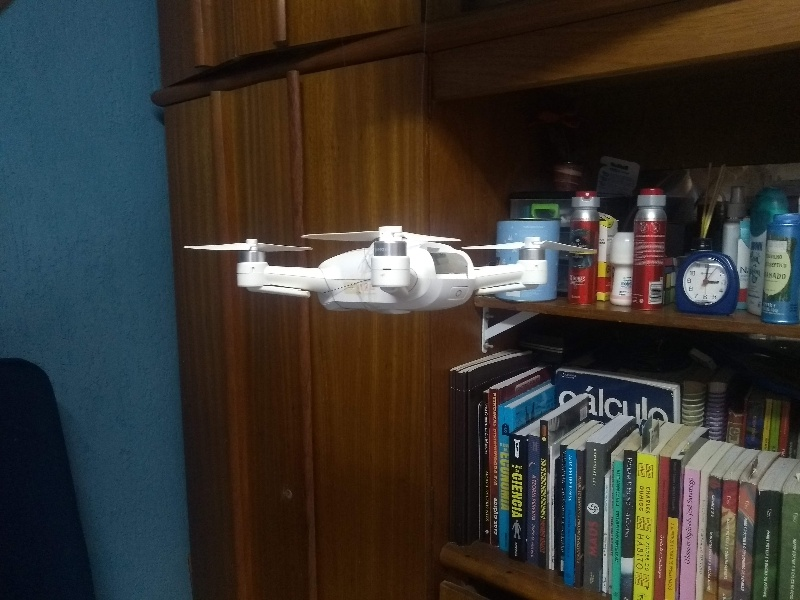drone: (177, 224, 593, 319)
